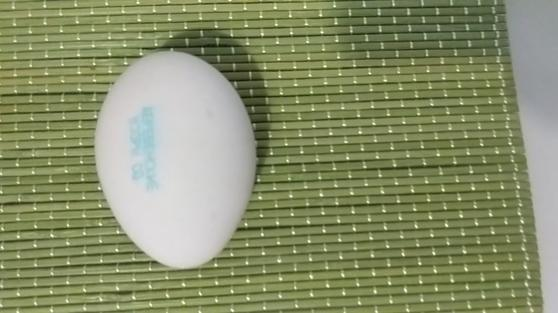egg: (93, 45, 264, 276)
